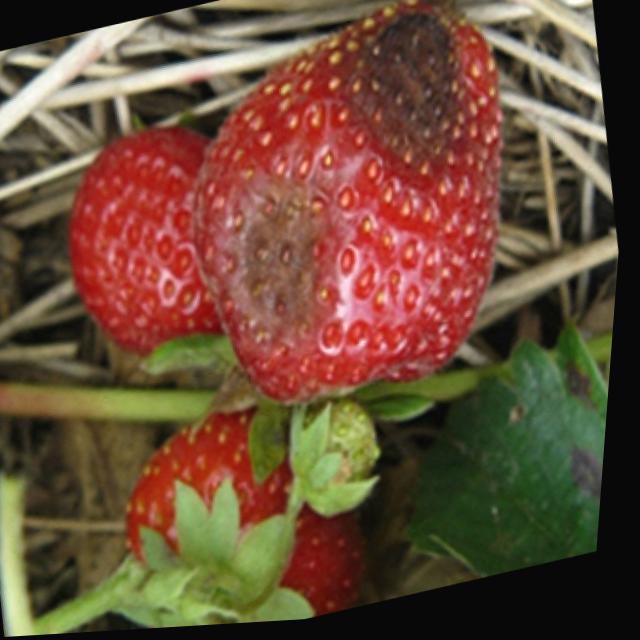Anthracnose Fruit Rot: (201, 1, 488, 370)
